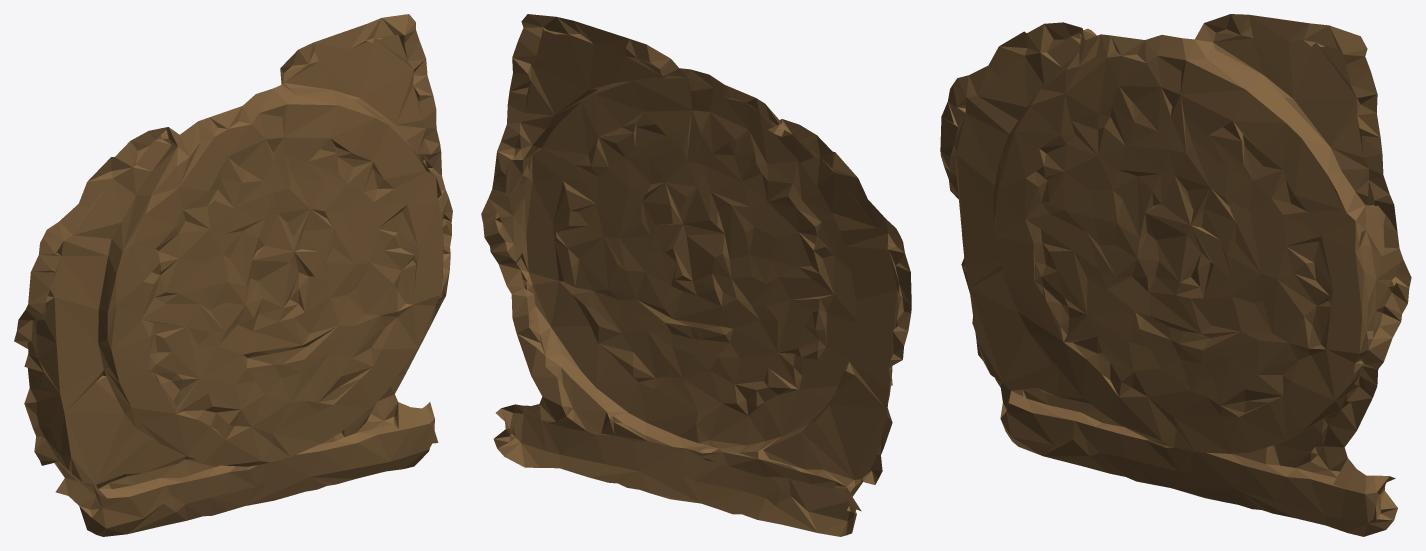
File: calendar-stone.lod1.glb
3 views of the same model, side by side, from view 1: azimuth 30°, elevation 25°; view 2: azimuth 150°, elevation 25°; view 3: azimuth 330°, elevation 25° (orthographic). The views are drawn at different scales.
Parts seen in each view (by area): view 1: Object_3; view 2: Object_3; view 3: Object_3.
Boxes of the visible parts, x1,y1,x2,y2 form: Object_3: (14, 14, 452, 536); Object_3: (481, 14, 911, 536); Object_3: (940, 14, 1411, 536).
Size of the model in its own units: 3.54 by 3.59 by 0.4434.
